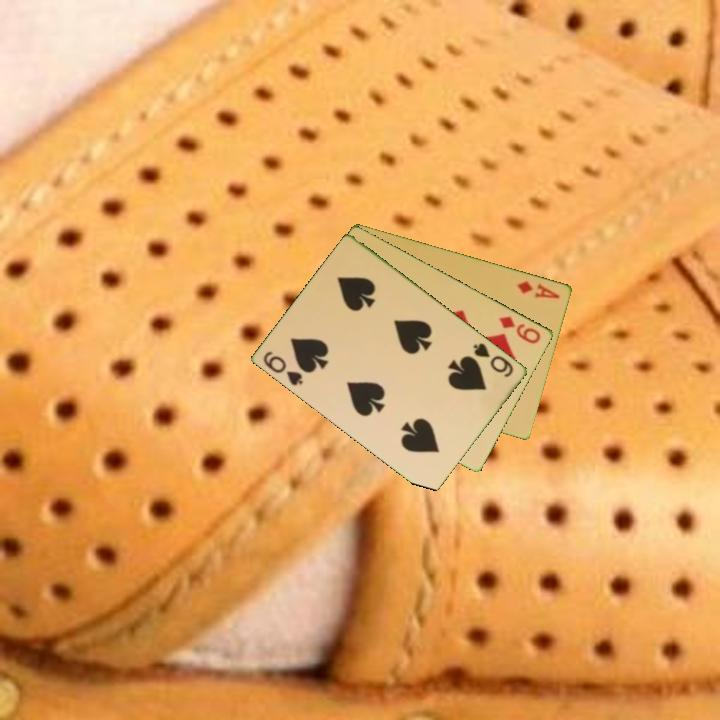6s: (260, 347, 306, 389), (470, 339, 517, 380)
9d: (496, 312, 544, 347)
Ad: (514, 277, 563, 301)
